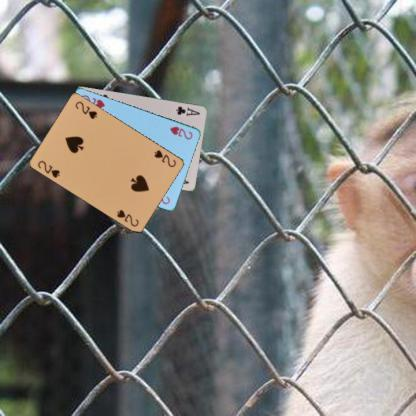2h: (168, 124, 194, 140)
2s: (152, 147, 177, 169), (35, 158, 61, 179)
Ac: (174, 103, 201, 117)
